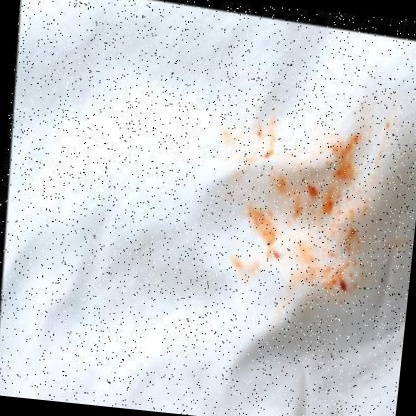kimchi: (196, 108, 416, 327), (318, 129, 362, 194), (319, 191, 342, 229), (333, 275, 361, 305), (301, 176, 322, 210), (258, 145, 273, 163), (269, 249, 284, 261)
